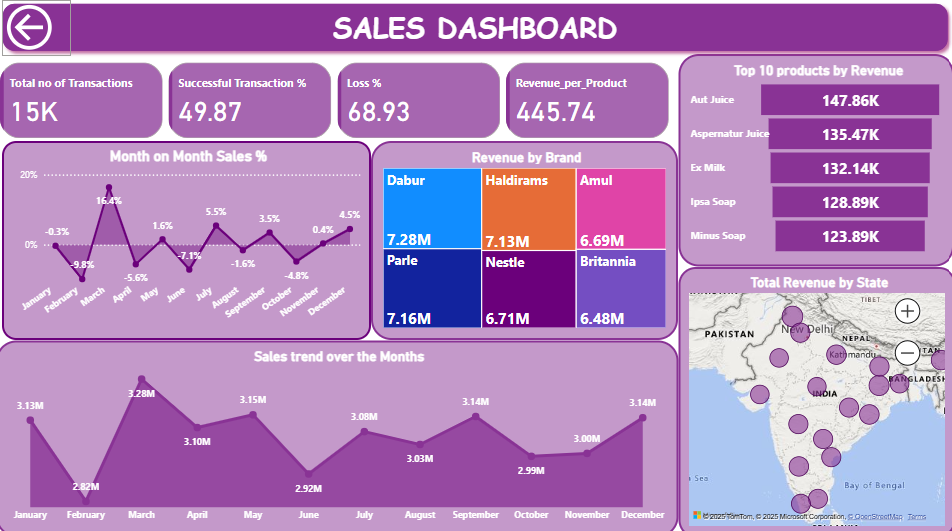

What the dashboard file says about the page in this screenshot:
{"tool":"powerbi","page":{"name":"Sales Report","canvas":[1280,720],"ordinal":2},"visuals":[{"type":"treemap","title":"Revenue by Brand","fields":{"Group":["Products.Brand"],"Values":["Sum(Orders.Order Amount)"]},"box":[500.3,192.7,409.7,265.6],"z":0},{"type":"map","title":"Total Revenue by State","fields":{"Size":["New Measures.Total Sales"],"Category":["Customers.State"]},"box":[909.4,360.5,370.6,360.5],"z":1000},{"type":"areaChart","title":"Sales trend over the Months","fields":{"Y":["New Measures.Total_Amount_After_Discount"],"Category":["Orders.Order_Date.Variation.Date Hierarchy.Month"]},"box":[0,458.2,910,262.3],"z":2000},{"type":"cardVisual","fields":{"Data":["Count(Transactions.Tr_ID)","New Measures.Successful Transaction %","New Measures.Loss","New Measures.Revenue_per_Product"]},"box":[0,81,903.3,111.4],"z":3000},{"type":"funnel","title":"Top 10 products by Revenue","fields":{"Category":["Products.PName"],"Y":["New Measures.Total Sales"]},"box":[909.4,77,368.6,283.5],"z":4000},{"type":"shape","box":[0,0,1278,81],"z":5000},{"type":"lineChart","title":"Month on Month Sales % ","fields":{"Category":["Orders.Order_Date.Variation.Date Hierarchy.Month"],"Y":["New Measures.Month on Month Sales %"]},"box":[8.1,192.4,492.2,265.3],"z":6000},{"type":"textbox","box":[443.7,8.1,466.3,69.6],"z":7000},{"type":"actionButton","box":[8.1,4.9,92.3,72.9],"z":8000}]}

Visuals, with their boxes in screenshot pixels (x1, y1, x2, y2), scaled from the page's 1280x720 canvas onto the 952x531 screenshot:
"Revenue by Brand" treemap: detection(372, 142, 677, 338)
"Total Revenue by State" map: detection(676, 266, 951, 530)
"Sales trend over the Months" areaChart: detection(0, 338, 677, 530)
cardVisual - Count(Transactions.Tr_ID) x New Measures.Successful Transaction %: detection(0, 60, 672, 142)
"Top 10 products by Revenue" funnel: detection(676, 57, 951, 266)
shape: detection(0, 0, 951, 60)
"Month on Month Sales % " lineChart: detection(6, 142, 372, 338)
textbox: detection(330, 6, 677, 57)
actionButton: detection(6, 4, 75, 57)
